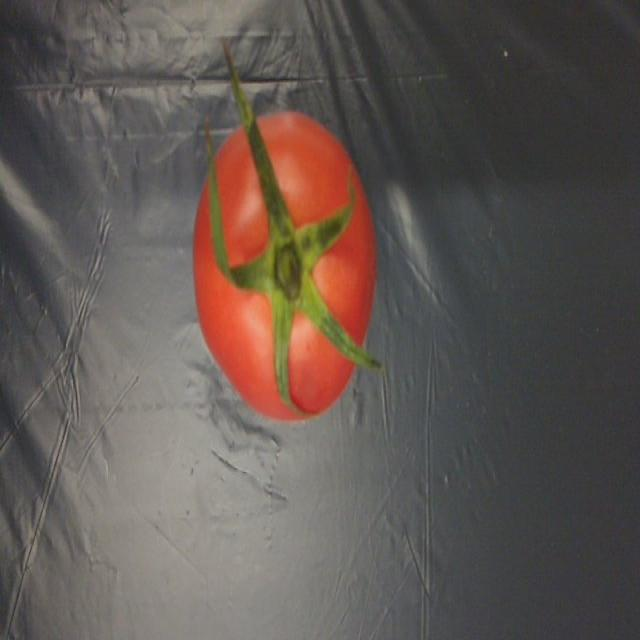sari: (184, 110, 400, 416)
